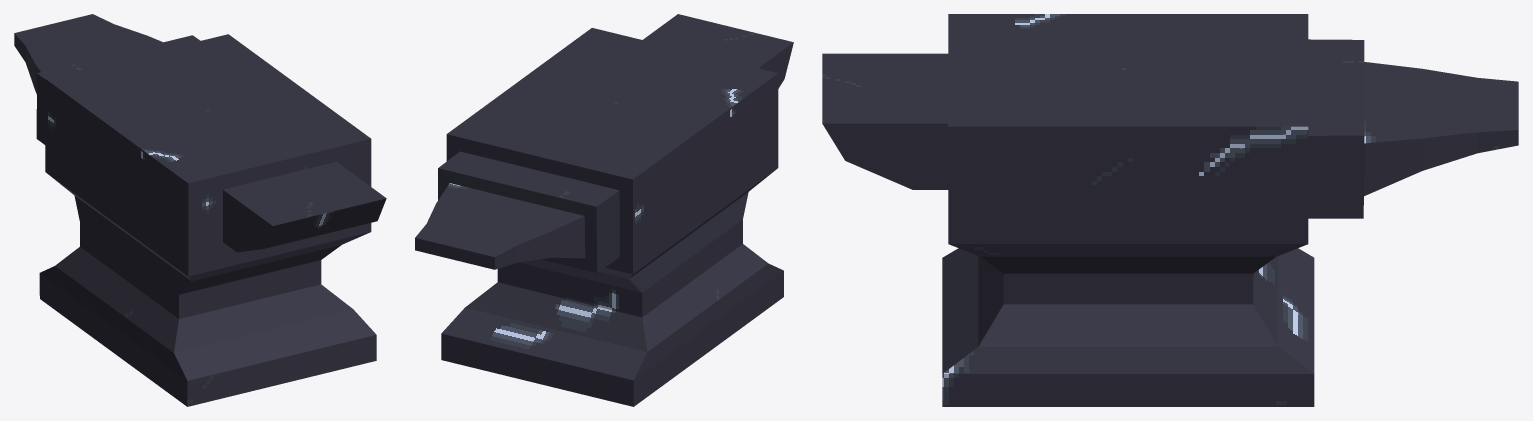
The model's file is anvil.glb.
3 renders of one model, left to right at view 1: azimuth 30°, elevation 25°; view 2: azimuth 150°, elevation 25°; view 3: azimuth 270°, elevation 25°, orthographic. The views are drawn at different scales.
Visible parts, largest first — view 1: Plane; view 2: Plane; view 3: Plane.
Boxes of the visible parts, <box> form: Plane: <box>14,14,386,406</box>; Plane: <box>415,14,793,406</box>; Plane: <box>822,14,1518,406</box>.
Size of the model in its own units: 1.61 by 1.8 by 4.08.
1 material, 1 textured.
